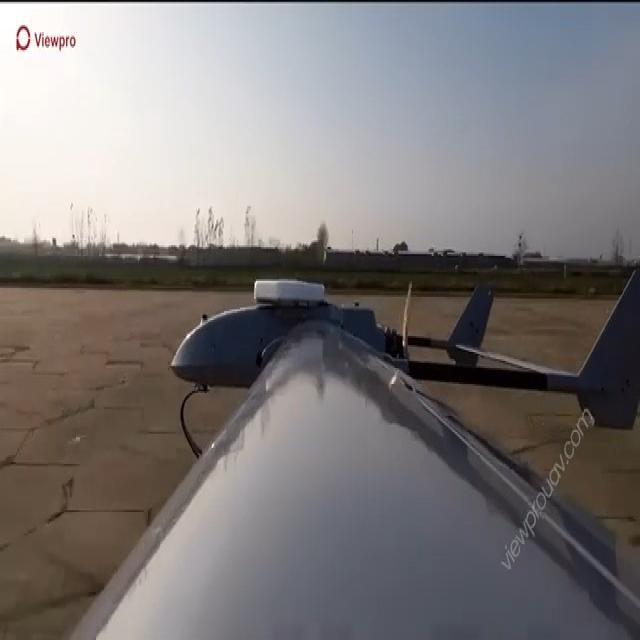drones: (155, 264, 640, 531)
